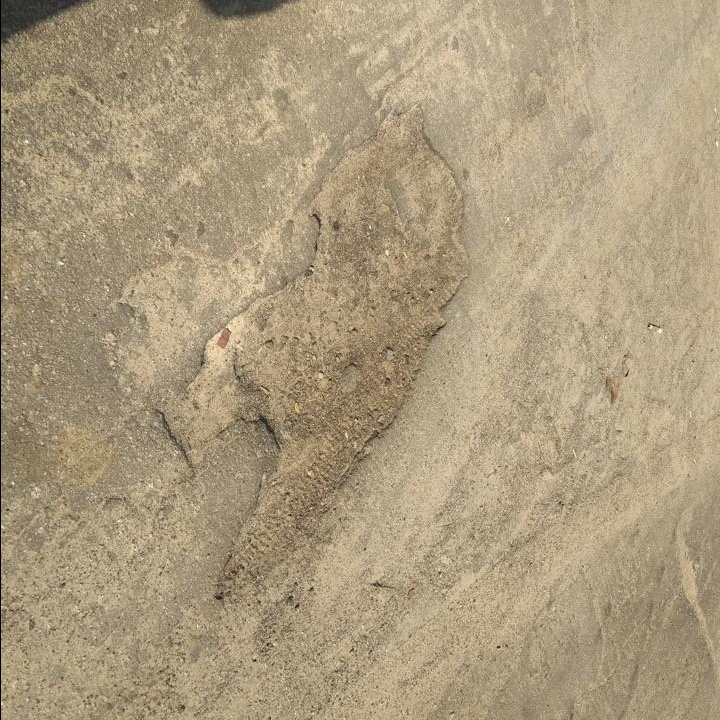pothole: (150, 97, 477, 610)
